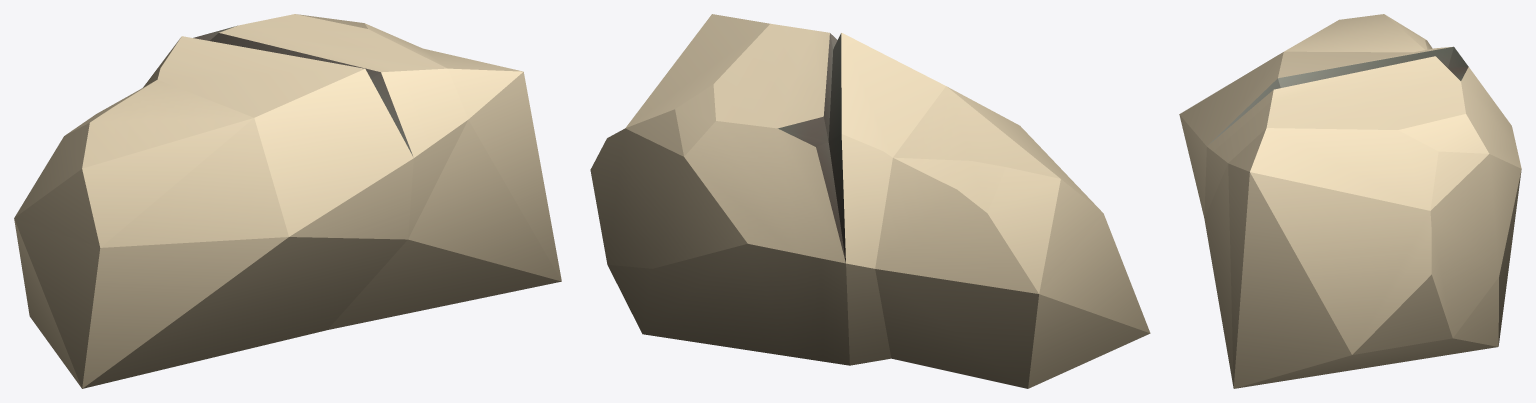
Rendered from rockFoundation.fbx.
3 views of the same model, side by side, from view 1: azimuth 30°, elevation 25°; view 2: azimuth 150°, elevation 25°; view 3: azimuth 270°, elevation 25° (orthographic). The views are drawn at different scales.
Visible parts, largest first — view 1: rockFoundation; view 2: rockFoundation; view 3: rockFoundation.
Boxes of the visible parts, x1=… form: rockFoundation: x1=14, y1=14, x2=561, y2=388; rockFoundation: x1=590, y1=14, x2=1150, y2=388; rockFoundation: x1=1179, y1=14, x2=1521, y2=388.
Size of the model in its own units: 1605 by 737 by 998.
